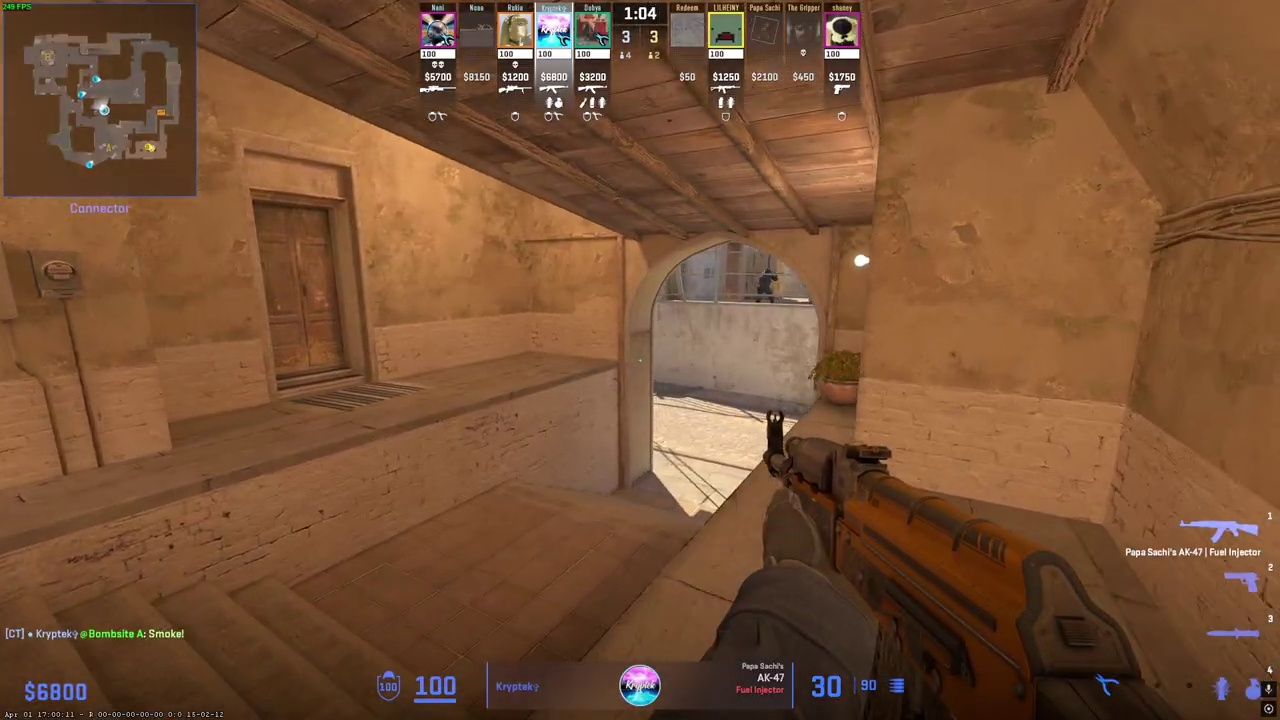CT: (756, 268, 778, 304)
